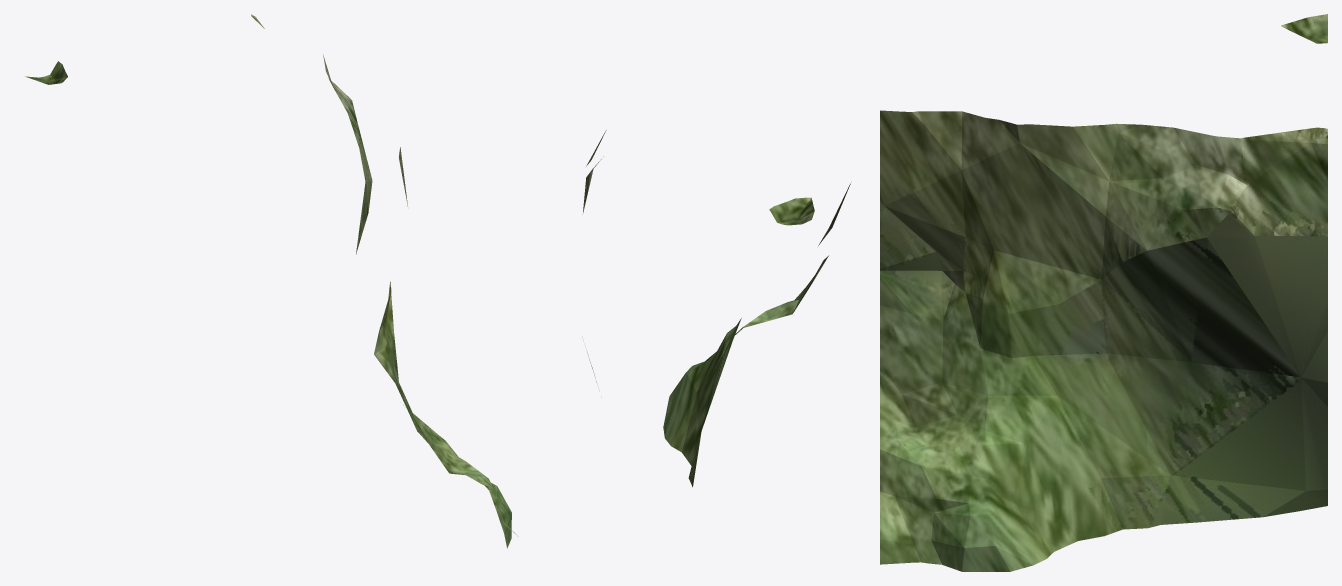
3 renders of one model, left to right at view 1: azimuth 30°, elevation 25°; view 2: azimuth 150°, elevation 25°; view 3: azimuth 270°, elevation 25°, orthographic. The views are drawn at different scales.
Size of the model in its own units: 2.38 by 2.95 by 2.95.
2 materials, 2 textured.
